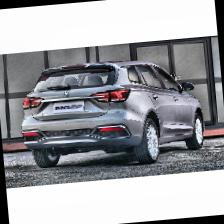EV: (17, 53, 210, 175)
